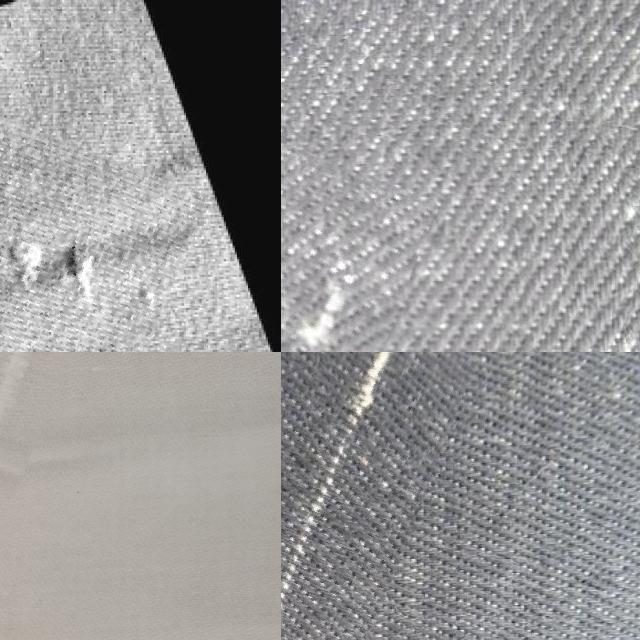Thread_other: (0, 101, 187, 352), (281, 352, 438, 640), (281, 146, 417, 352), (0, 352, 81, 640)
